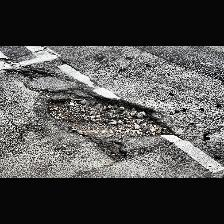pothole: (47, 90, 175, 140), (100, 141, 127, 163), (8, 67, 52, 79)
